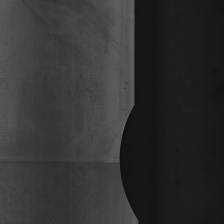crescent_gap: (113, 102, 149, 224), (1, 149, 123, 176)
